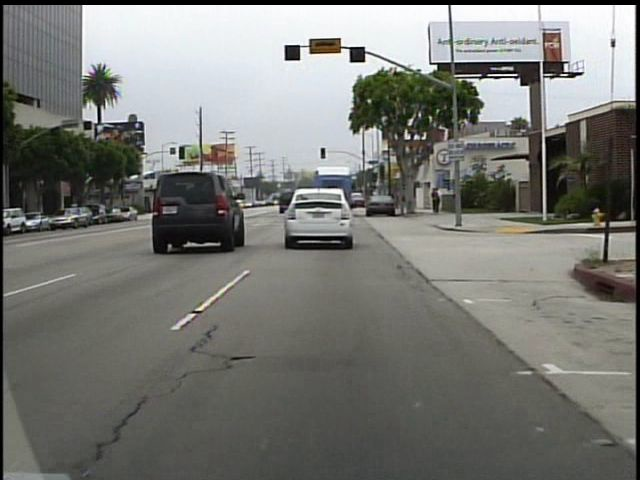person: (430, 187, 441, 217), (436, 187, 445, 214)
